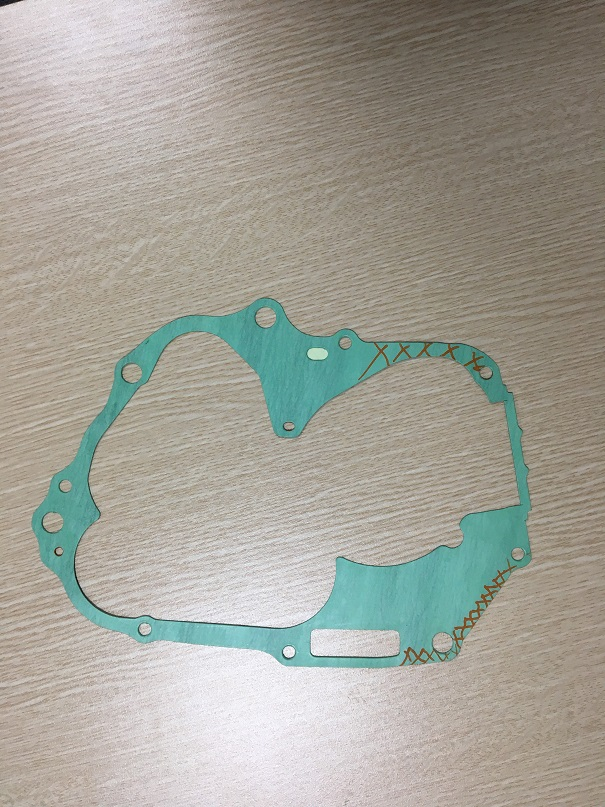type3: (20, 290, 546, 679)
